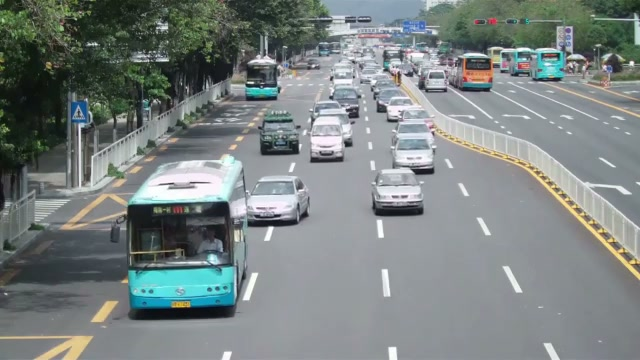bus: (109, 157, 249, 317), (450, 52, 494, 91), (244, 57, 280, 100), (531, 48, 565, 80), (500, 48, 535, 76), (487, 47, 511, 74)
car: (248, 174, 311, 225), (370, 168, 425, 216), (390, 130, 436, 174), (258, 108, 301, 155), (309, 118, 345, 162), (311, 112, 354, 147), (330, 86, 361, 118), (386, 96, 418, 122), (375, 88, 406, 113)
pedestrian: (196, 228, 223, 255)
truck: (258, 108, 301, 155)
